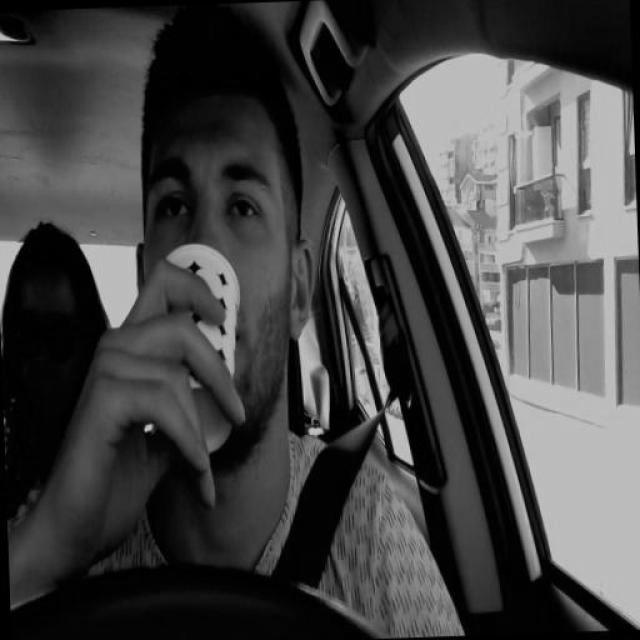Drinking: (139, 243, 246, 454)
